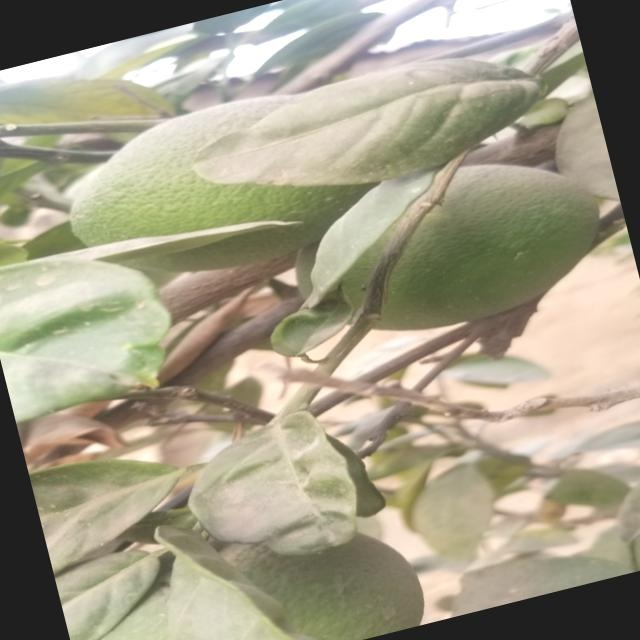agrume: (70, 70, 394, 294), (315, 127, 614, 349)
